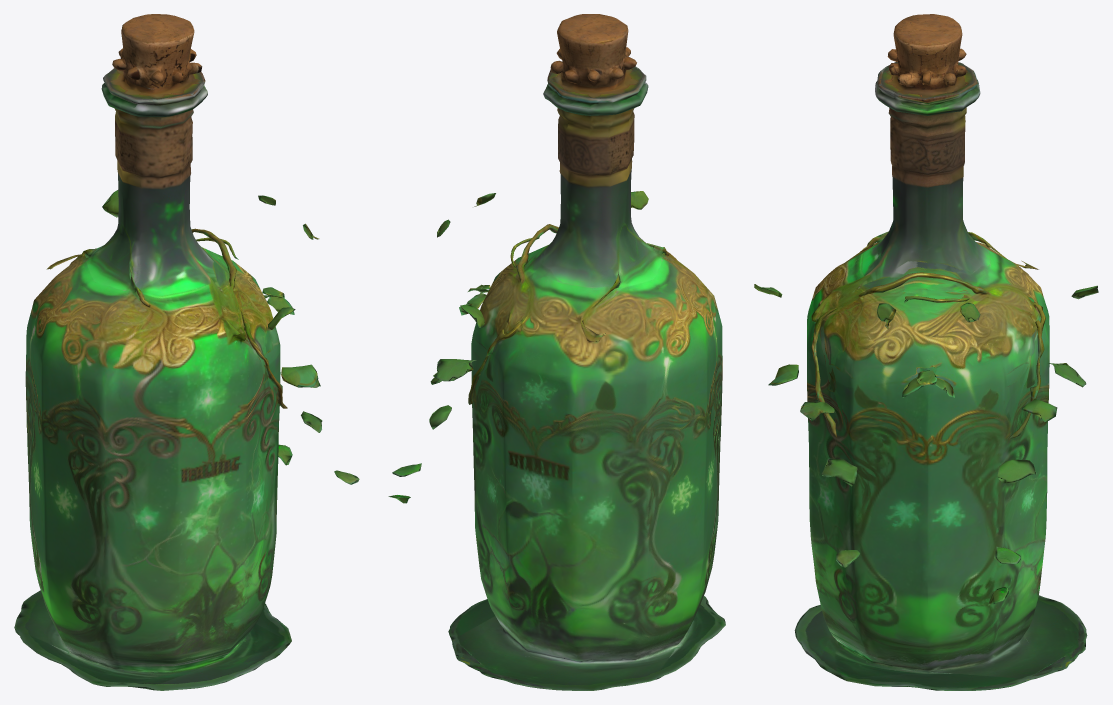
The model's file is green_potion.glb.
The picture shows the model from 3 angles, left to right: view 1: azimuth 30°, elevation 25°; view 2: azimuth 150°, elevation 25°; view 3: azimuth 270°, elevation 25°; orthographic projection.
Size of the model in its own units: 0.9765 by 2 by 1.02.
1 material, 1 textured.
